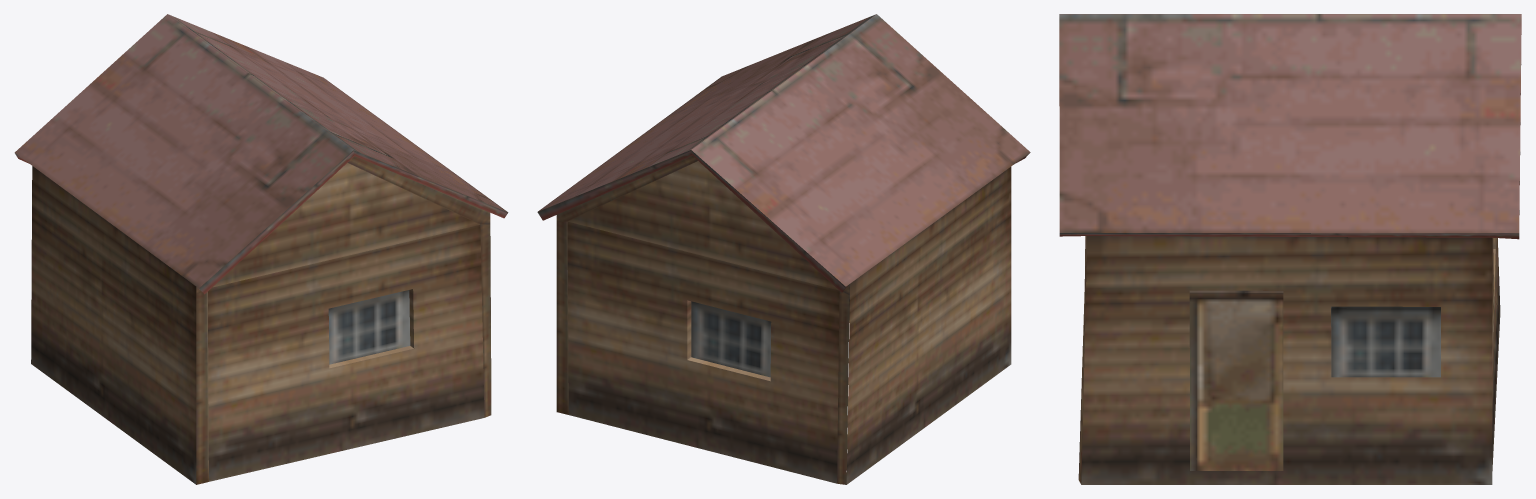
File: house03.glb
The picture shows the model from 3 angles, left to right: view 1: azimuth 30°, elevation 25°; view 2: azimuth 150°, elevation 25°; view 3: azimuth 270°, elevation 25°; orthographic projection. The views are drawn at different scales.
Parts seen in each view (by area): view 1: house03_elements_0; view 2: house03_elements_0; view 3: house03_elements_0.
Part boxes in pixels (x1=…): house03_elements_0: x1=14, y1=14, x2=508, y2=484; house03_elements_0: x1=537, y1=14, x2=1030, y2=484; house03_elements_0: x1=1059, y1=14, x2=1521, y2=484.
Size of the model in its own units: 4.32 by 4.09 by 4.49.
Materials: 1 (1 with a texture image).
